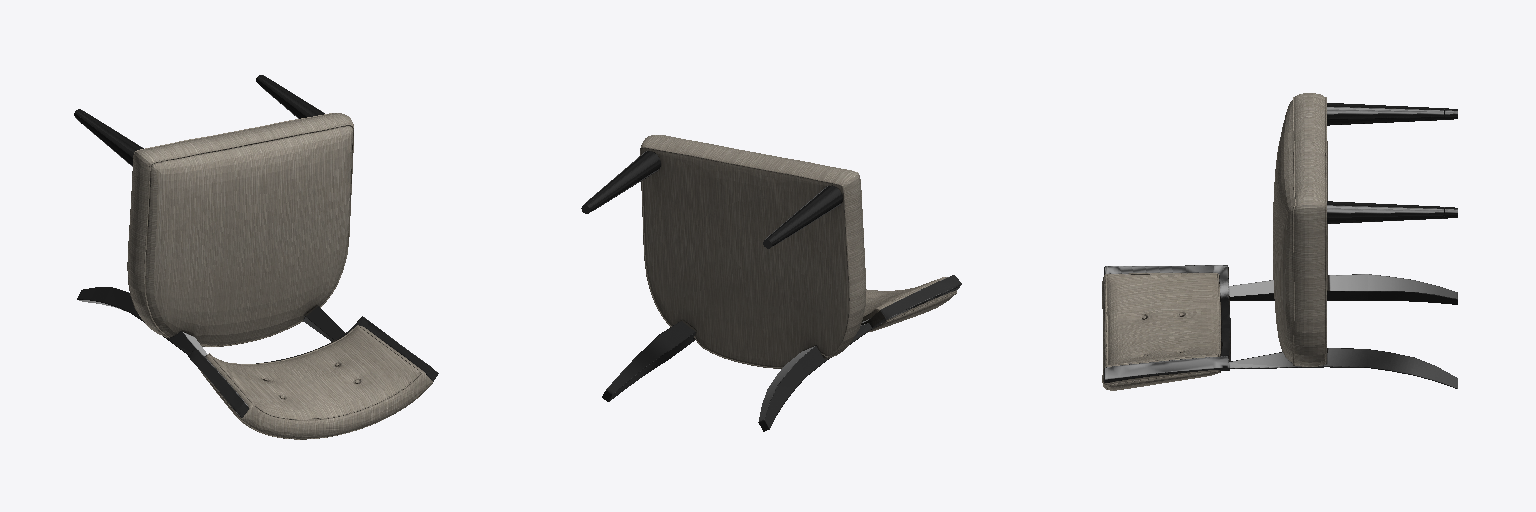
3 views of the same model, side by side, from view 1: azimuth 30°, elevation 25°; view 2: azimuth 150°, elevation 25°; view 3: azimuth 270°, elevation 25° (orthographic).
Size of the model in its own units: 0.5862 by 0.5958 by 0.8285.
Materials: 1 (1 with a texture image).